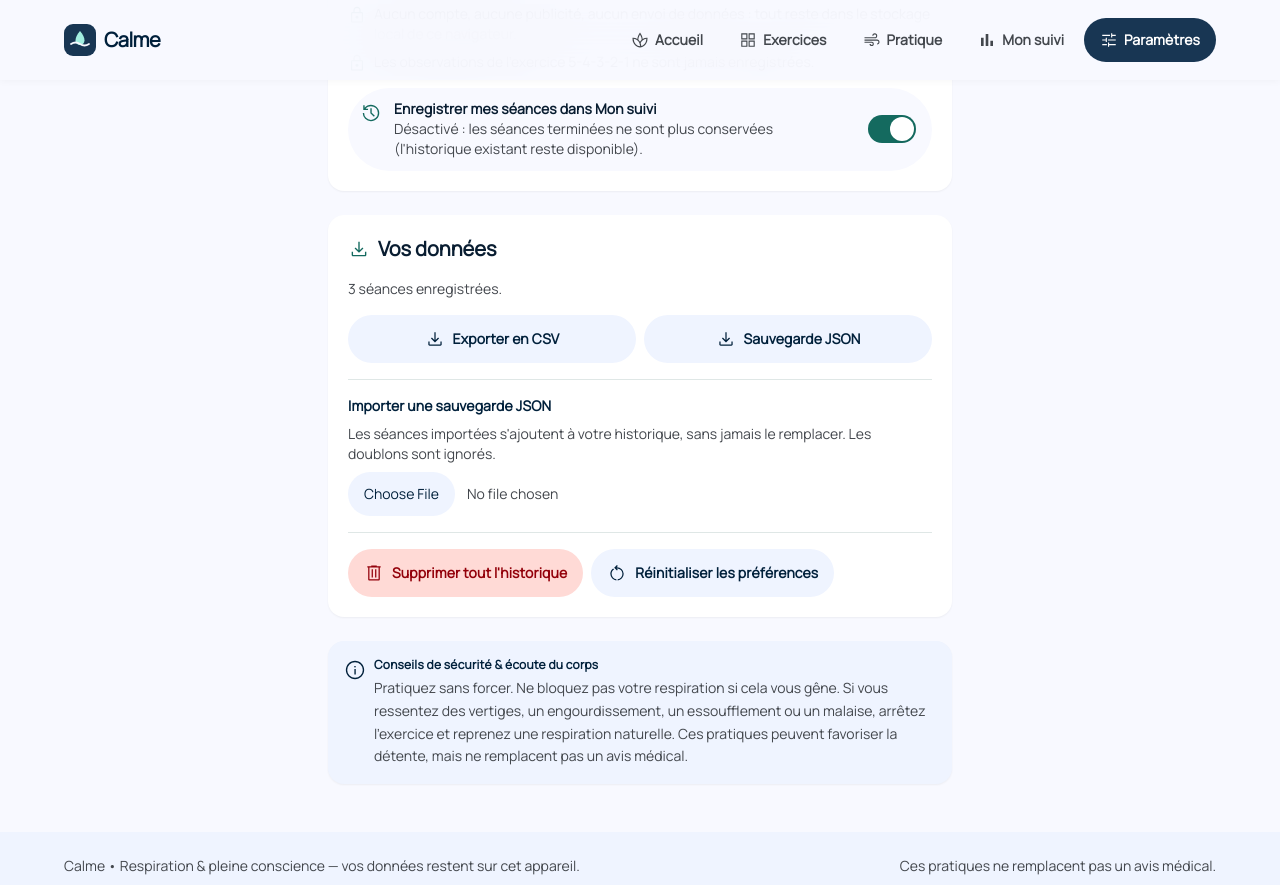
Test: Paramètres › deletes the whole history after confirmation, and can cancel
(page scrolled)
Expected: the text "3 séances enregistrées." is shown, top-left (348, 279), bottom-right (502, 298)
Click the button "Supprimer tout l'historique": (466, 573) top-left (348, 549), bottom-right (583, 597)
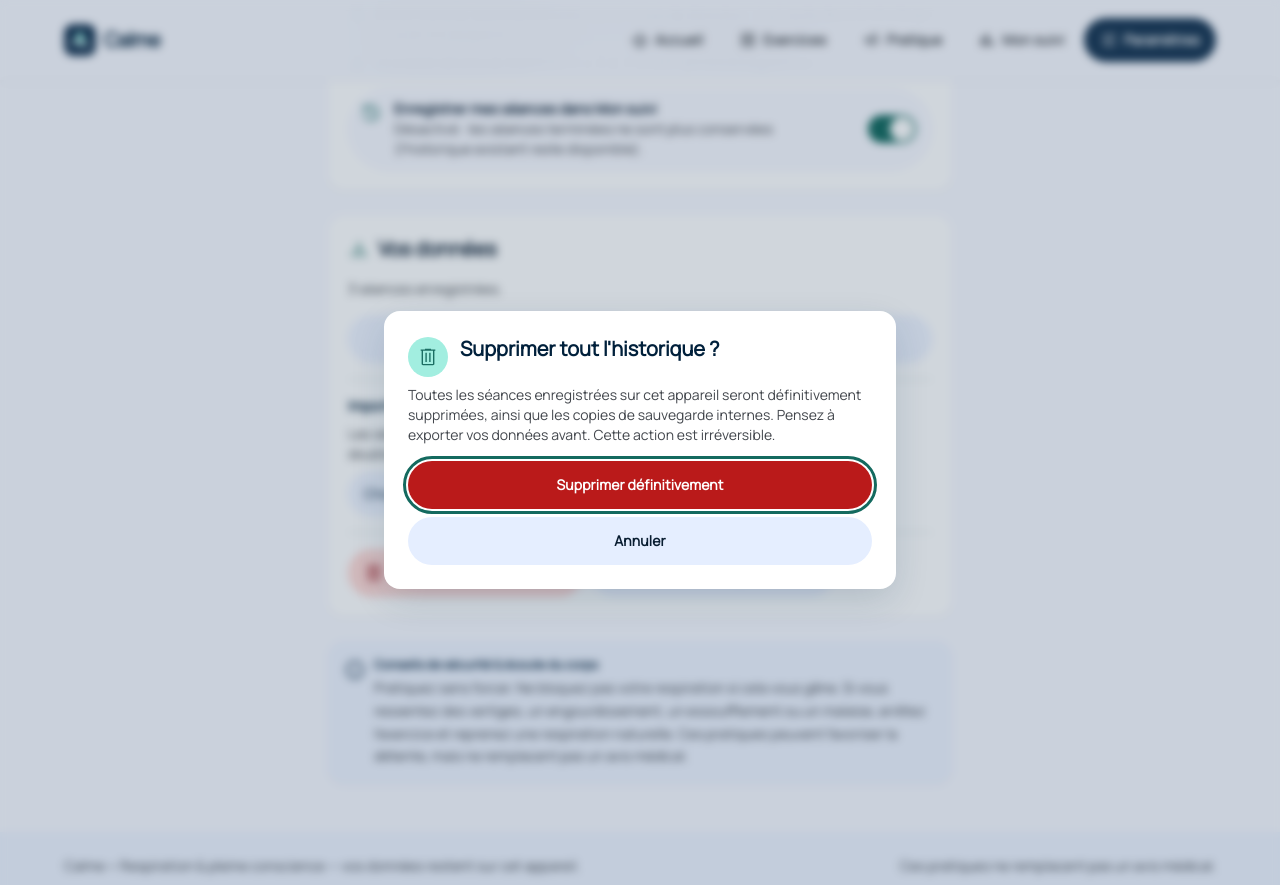
Click the button "Annuler": (640, 541) top-left (408, 517), bottom-right (872, 565)
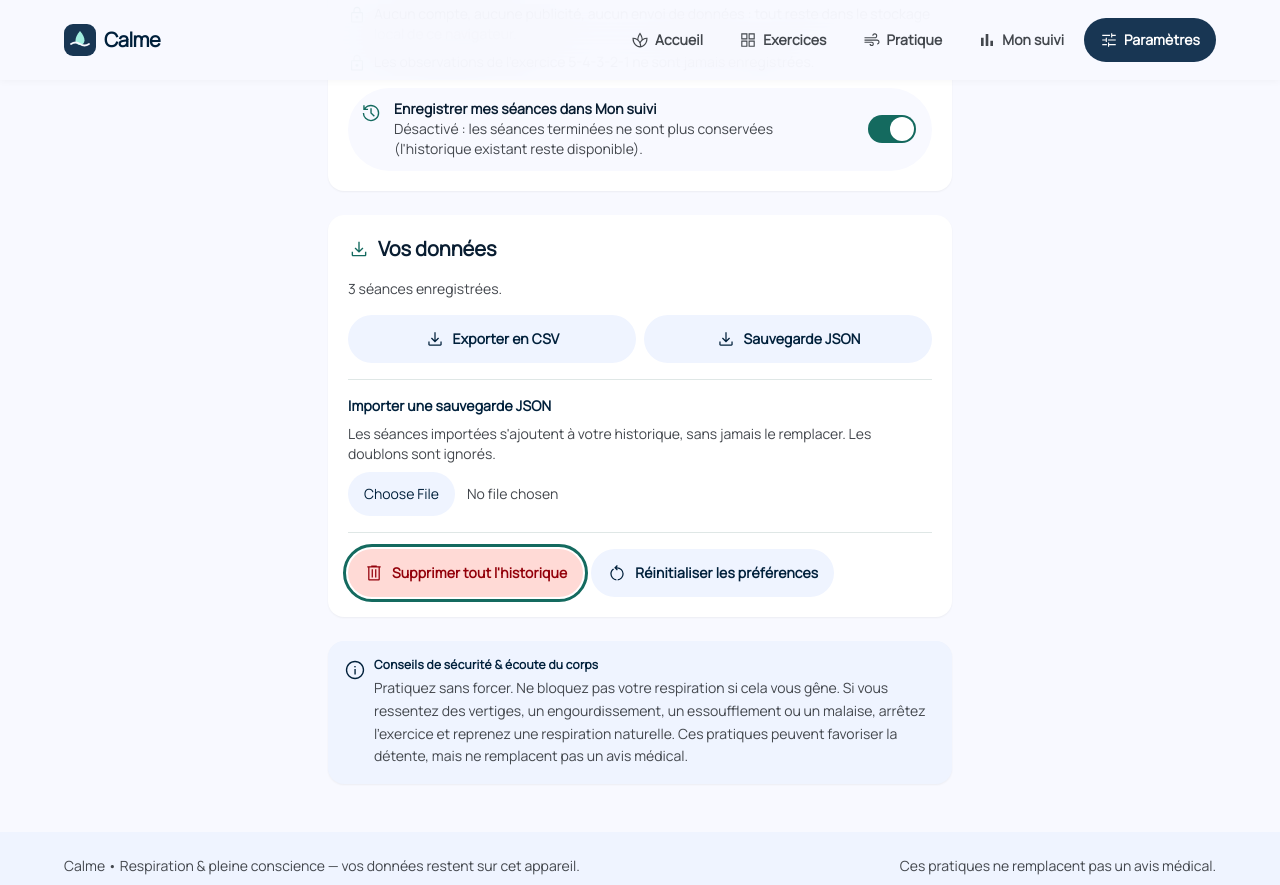
Click the button "Supprimer tout l'historique": (466, 573) top-left (348, 549), bottom-right (583, 597)
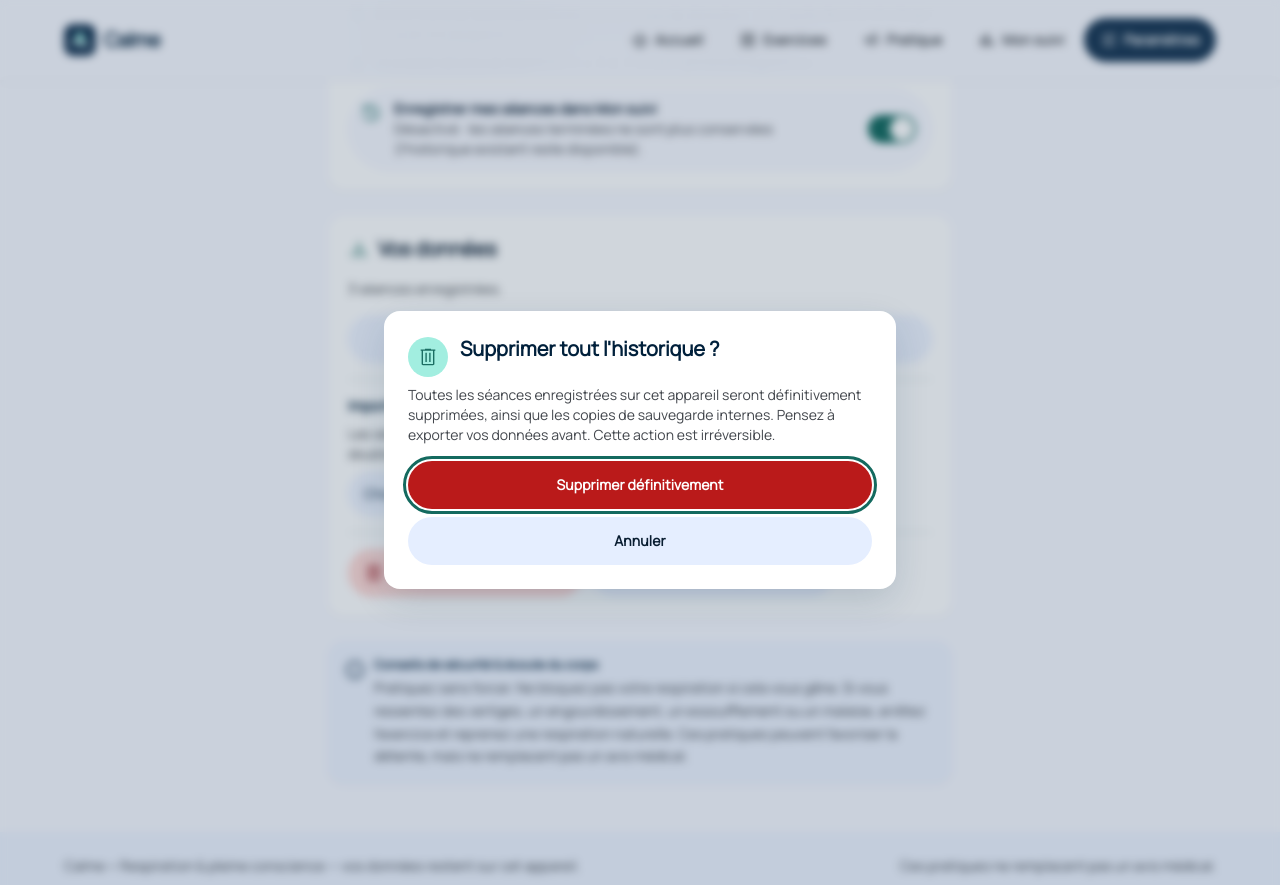
Click the button "Supprimer définitivement": (640, 485) top-left (408, 461), bottom-right (872, 509)
(page scrolled)
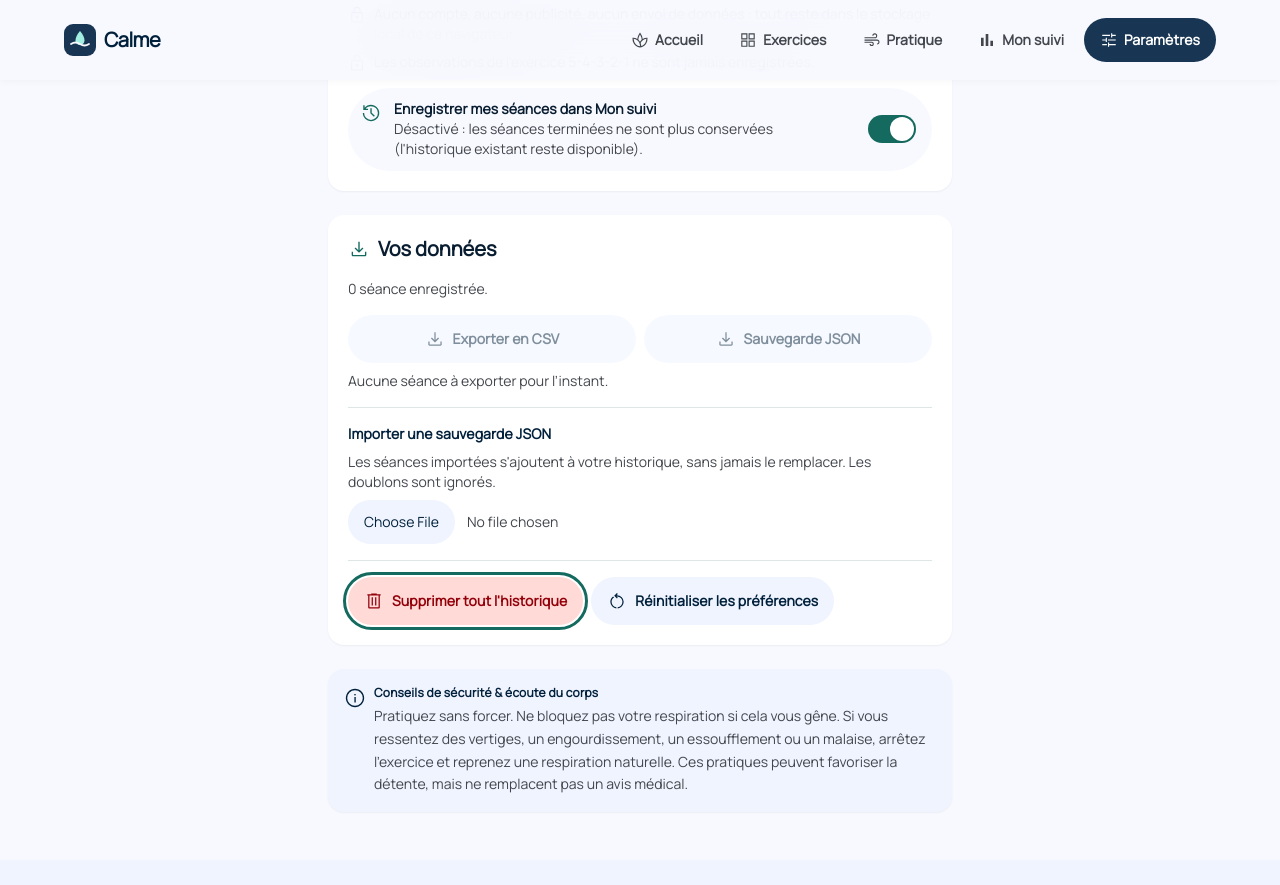
Now the text "0 séance enregistrée." is shown, box top-left (348, 279), bottom-right (488, 298)
